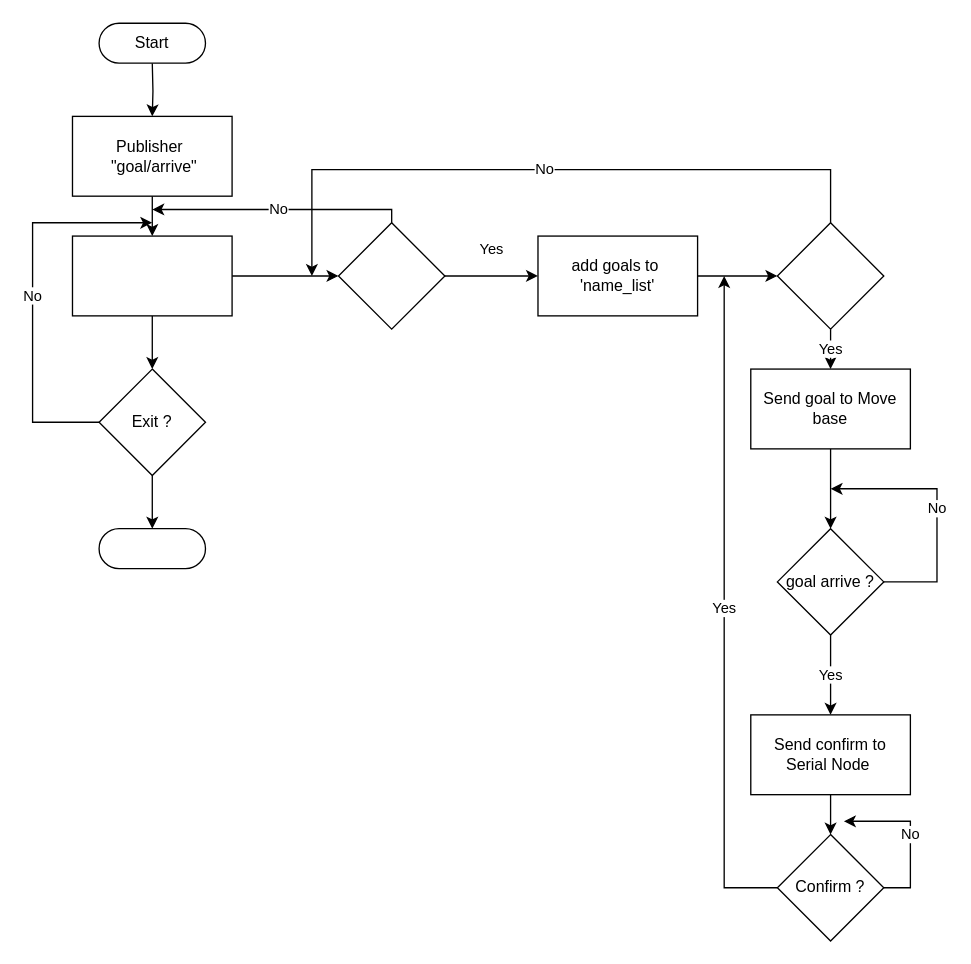
Image size: 971x964. Some labels were removed from this diagram. The shapes that lost their labels are listed below. From the top down, each one's centre as x and y in pixels, then its label:
the point at 151,275: Subcriber 'goal/move' 'goal/emergency'
the point at 391,275: goal/move ?
the point at 830,275: 'name_list' not empty
the point at 151,548: End
